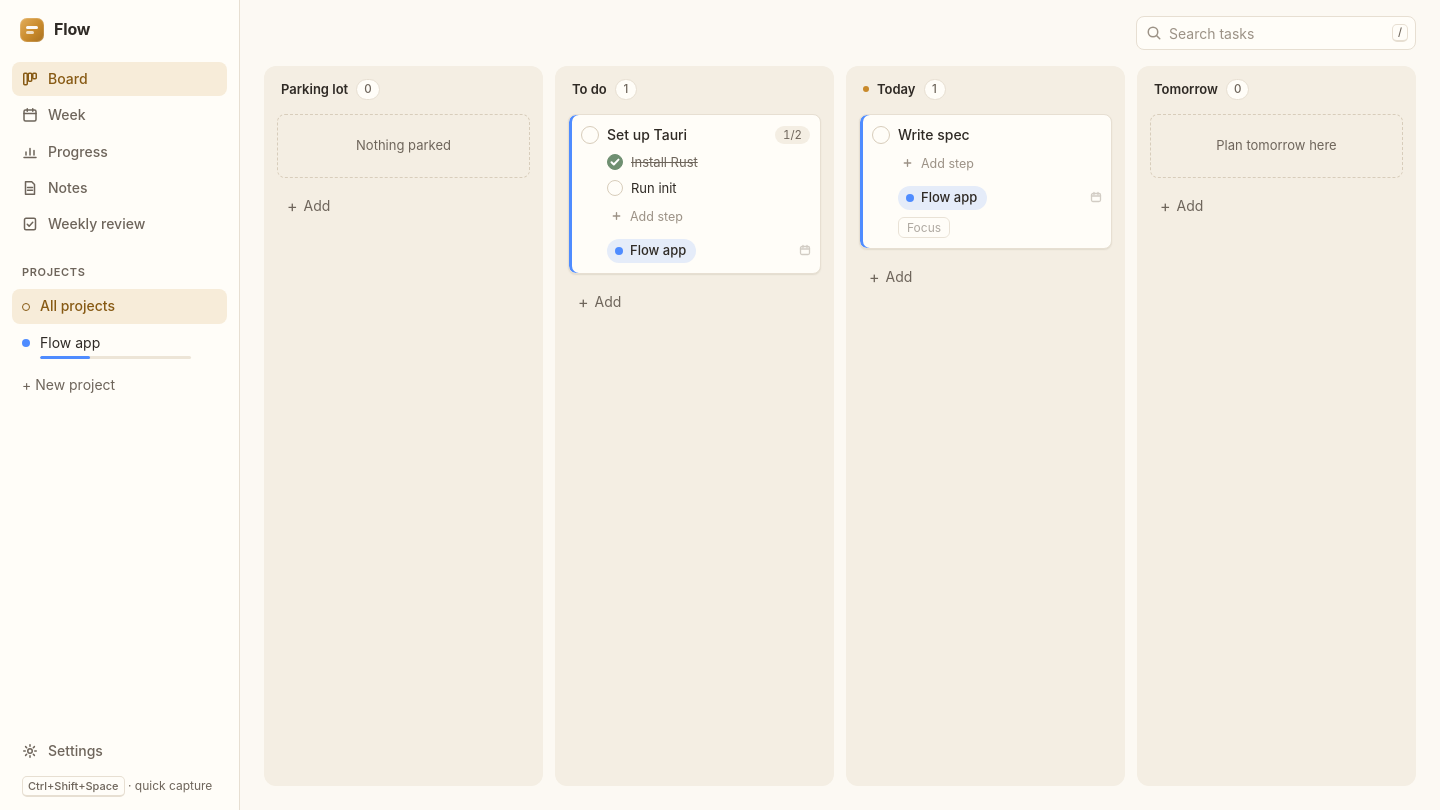
Test case: Done bar › the "Done" column setting hides the whole bar
Expected: the button "Set up Tauri" is shown, [607,125,767,144]
Expected: the element "Today" is shown, [846,66,1125,786]
Note: Hidden, not gone: ticking still completes the task.
Click the checkbox named "Done: Write spec" at (881,135), box [872,126,890,144]
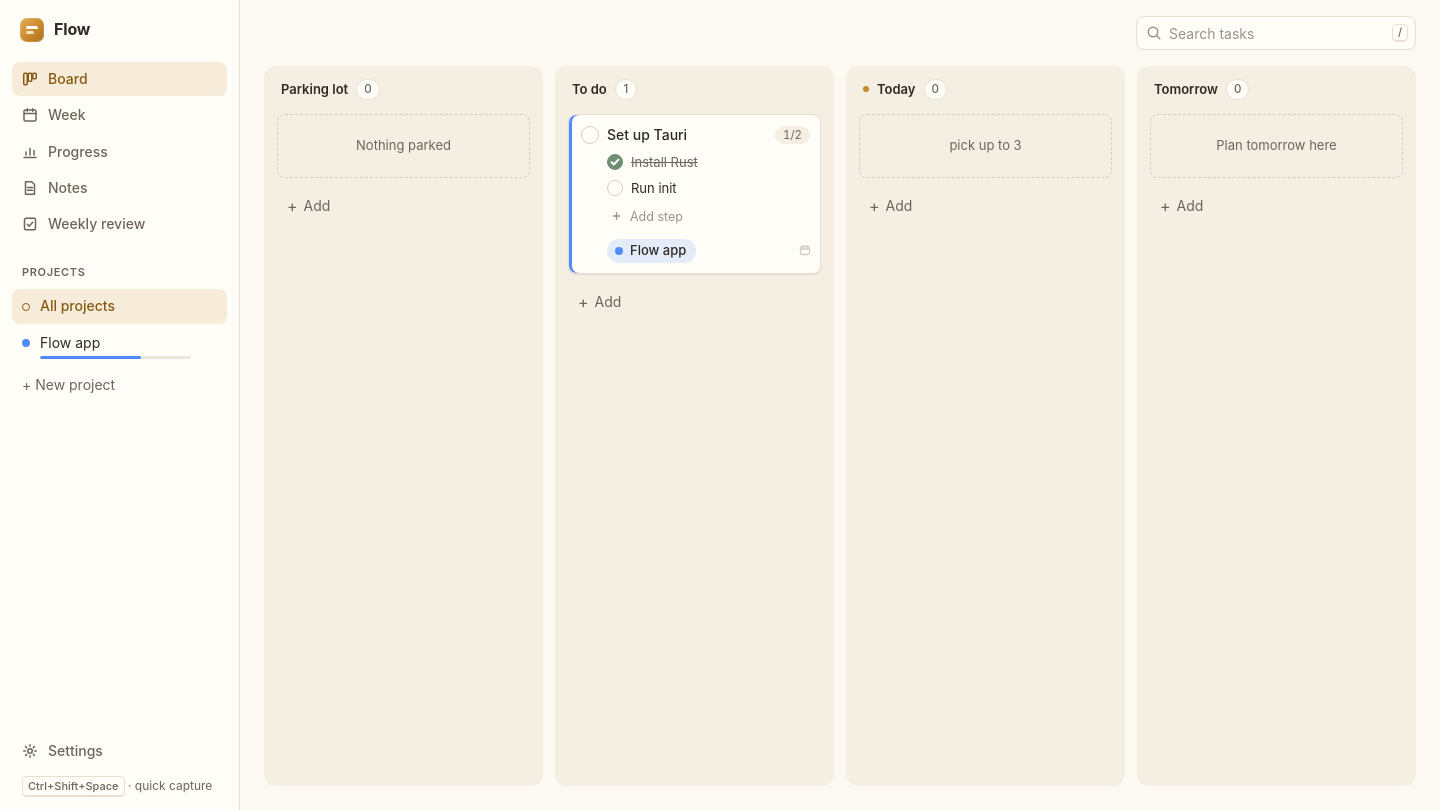
Now the button "Write spec" is gone
